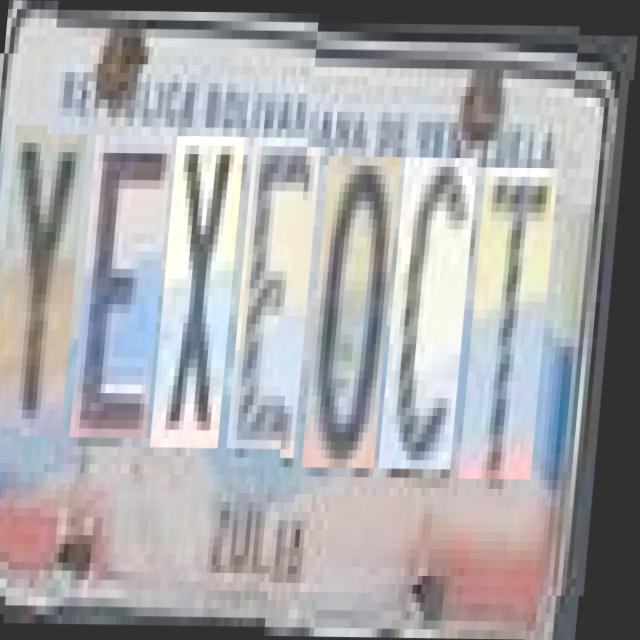C: (387, 148, 481, 460)
E: (78, 134, 176, 438), (235, 136, 324, 448)
O: (310, 146, 404, 458)
T: (468, 156, 562, 468)
X: (158, 136, 248, 448)
Y: (0, 134, 90, 436)
